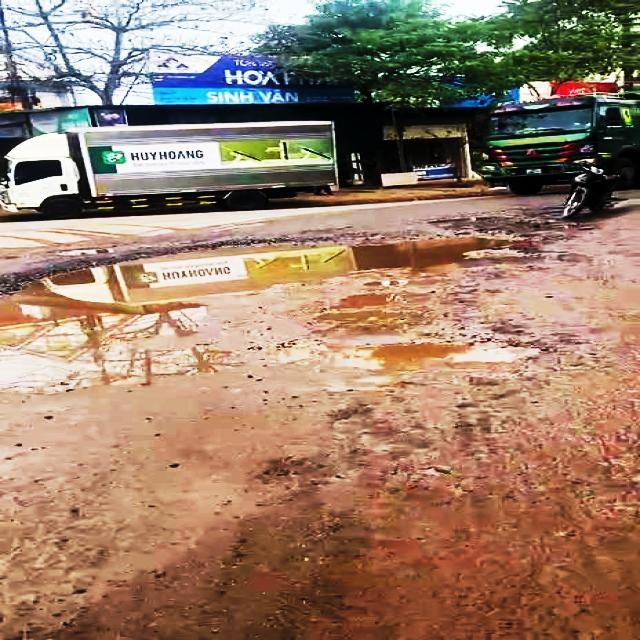pothole: (0, 226, 575, 374)
